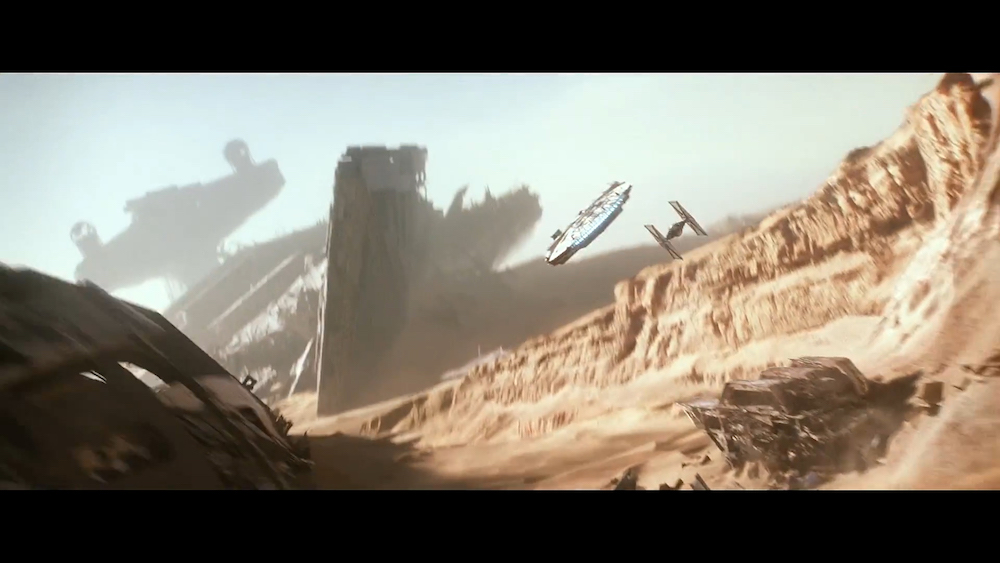Millennium Falcon: (544, 181, 633, 268)
Tie Fighter: (644, 201, 709, 262)
